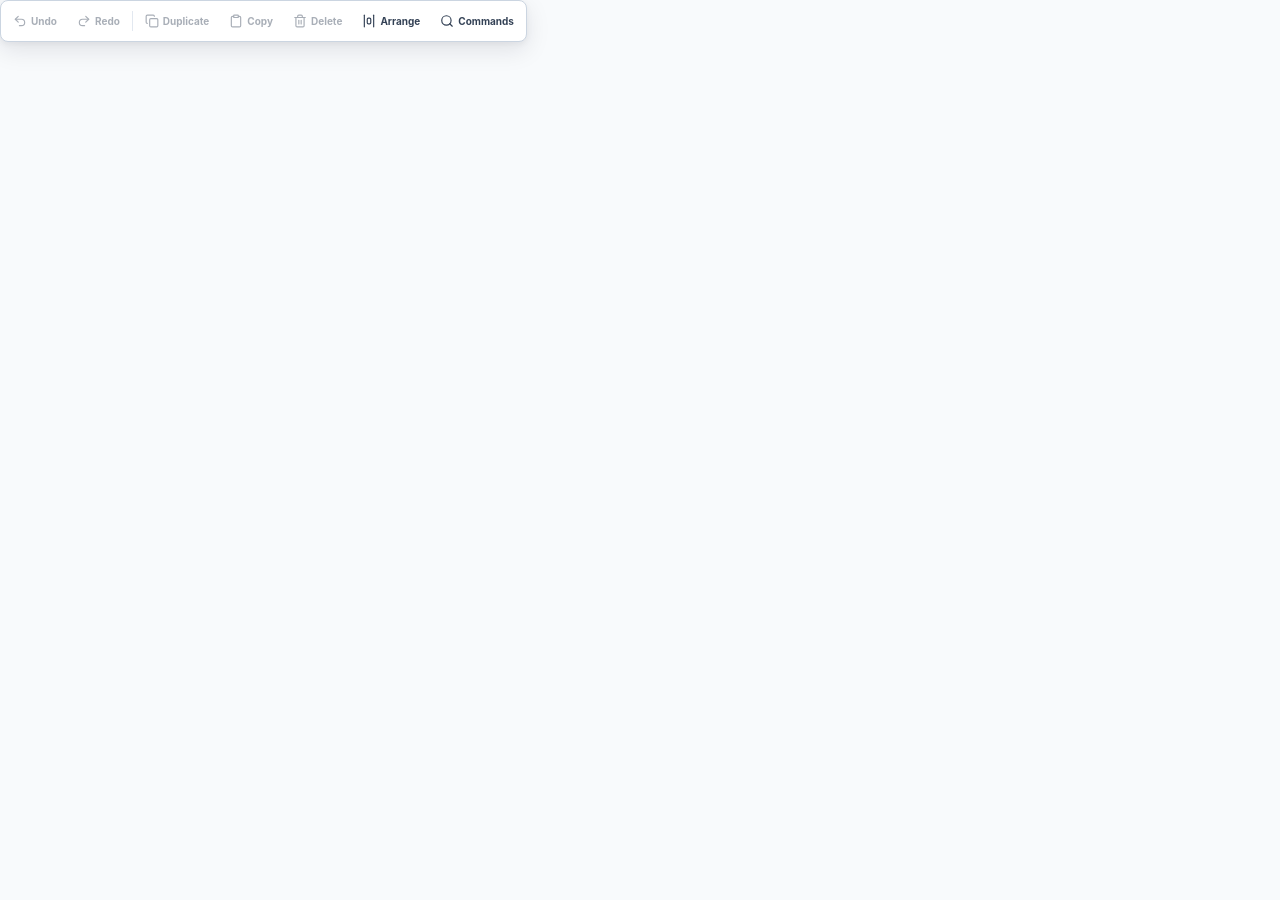
Test case: EditorCommandBar › dismisses only when the backdrop itself is clicked
Click the button "Commands": (477, 21) [432,5,522,37]
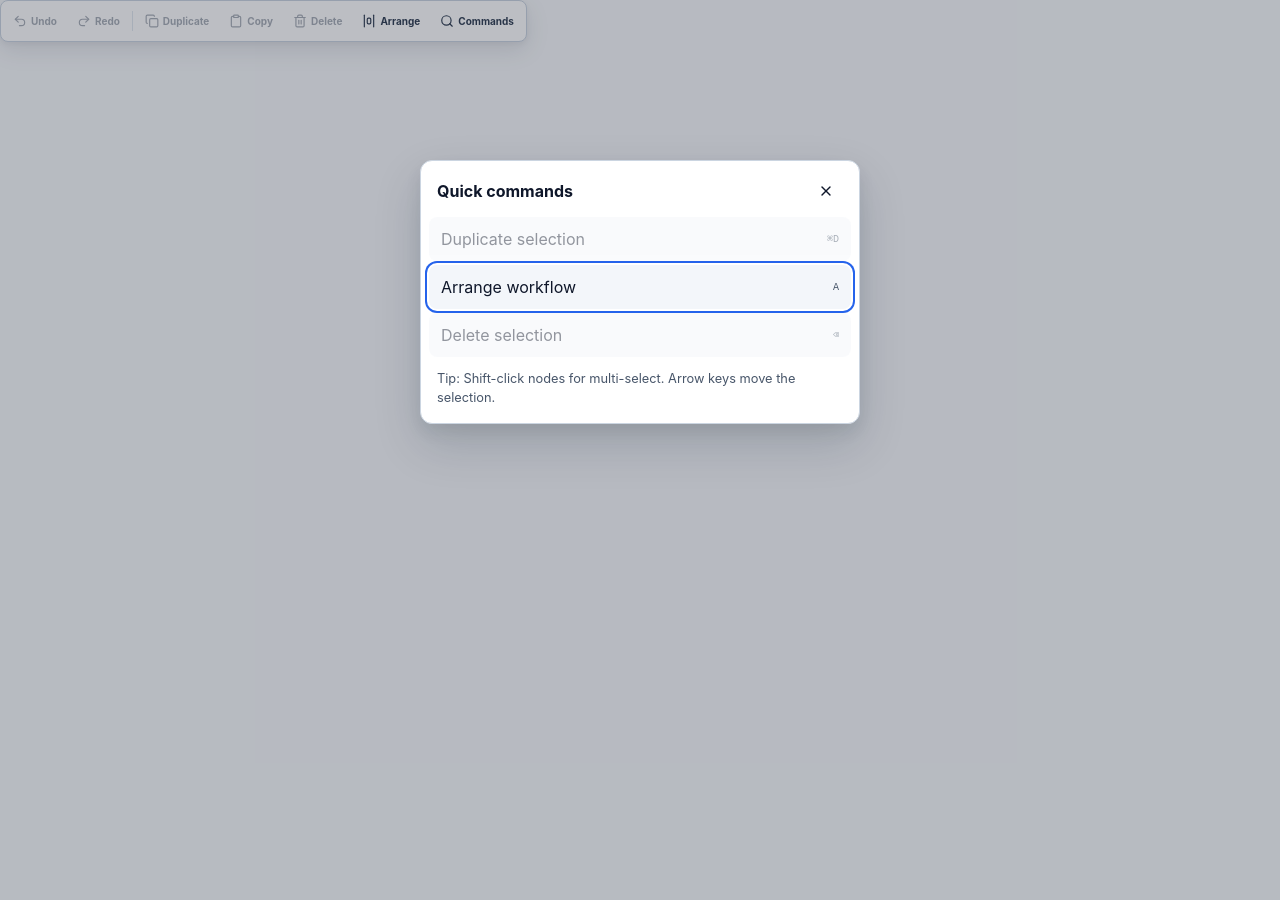
Press the mouse on the text "Quick commands": (505, 191) [437,179,573,203]
Result: the dialog "Quick commands" is shown
Press the mouse on the dialog "Quick commands": (640, 450) [0,0,1279,899]
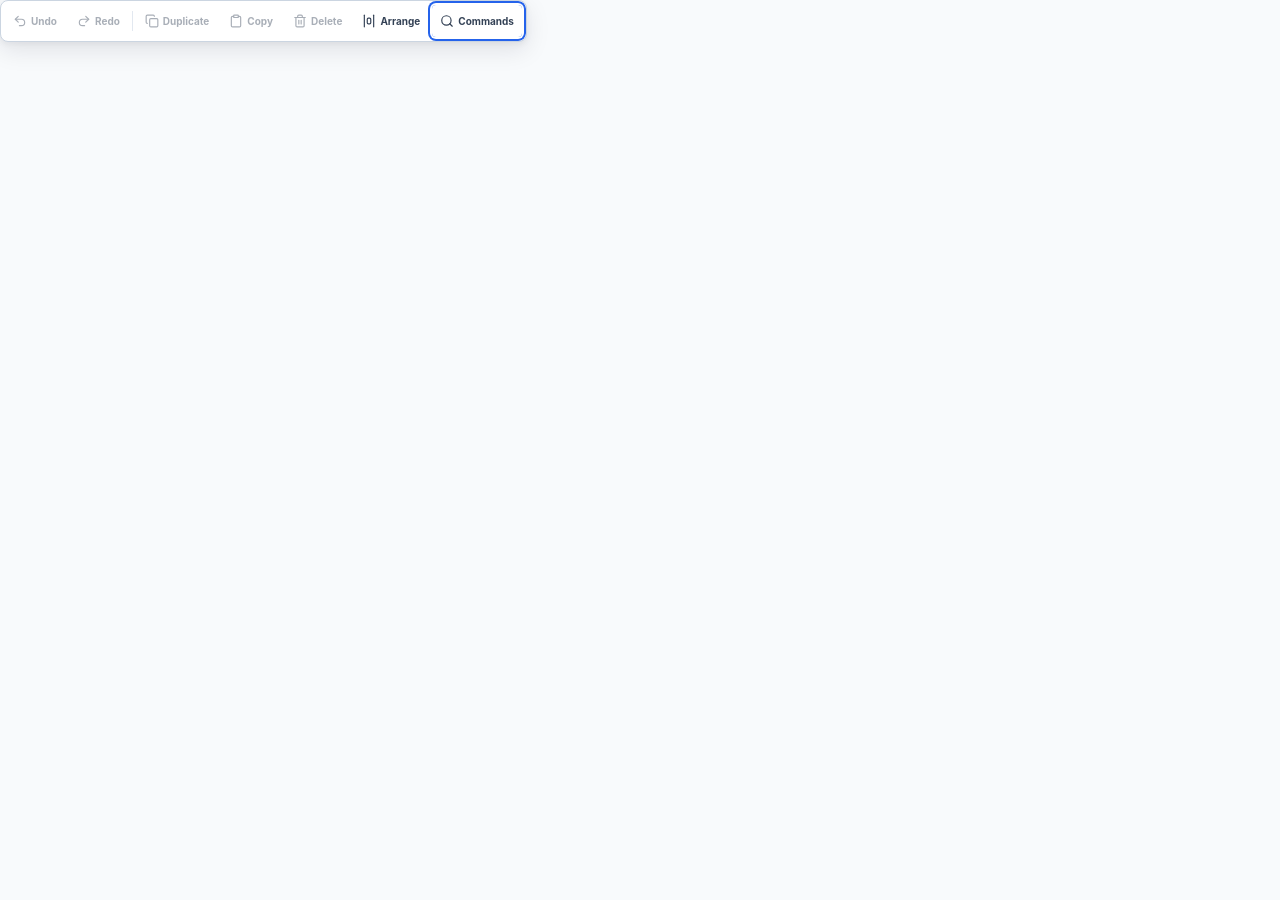
Result: the text "Quick commands" is gone
